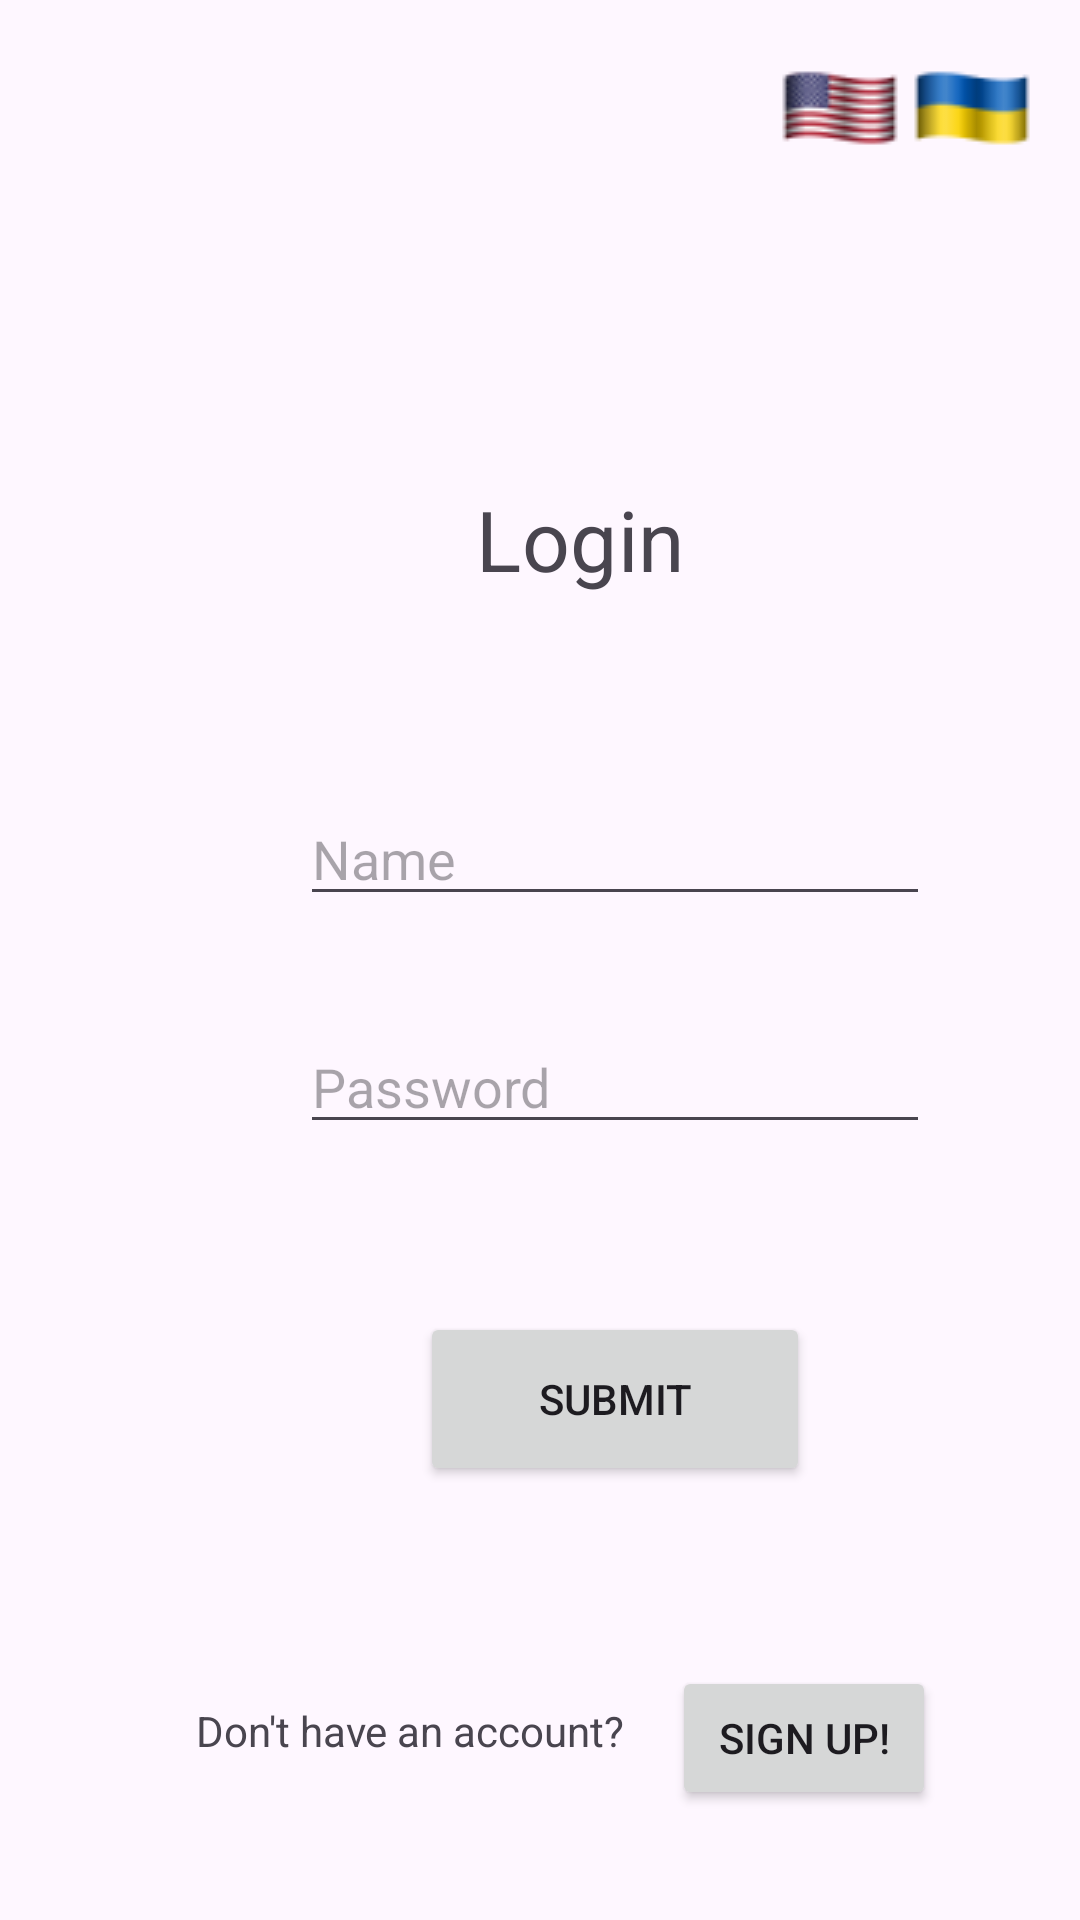

Screen size 1080 × 1920. Icon name, then its box in pixels as (x1, y1, x2, y2):
ukraine lang: (914, 71, 1030, 145)
united states lang: (782, 71, 898, 145)
